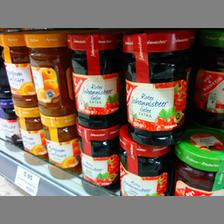Marmelade: (121, 31, 190, 145), (66, 29, 122, 126), (22, 32, 74, 116), (116, 124, 172, 196), (74, 120, 118, 196), (1, 31, 40, 107), (39, 113, 81, 180), (13, 105, 46, 165)
